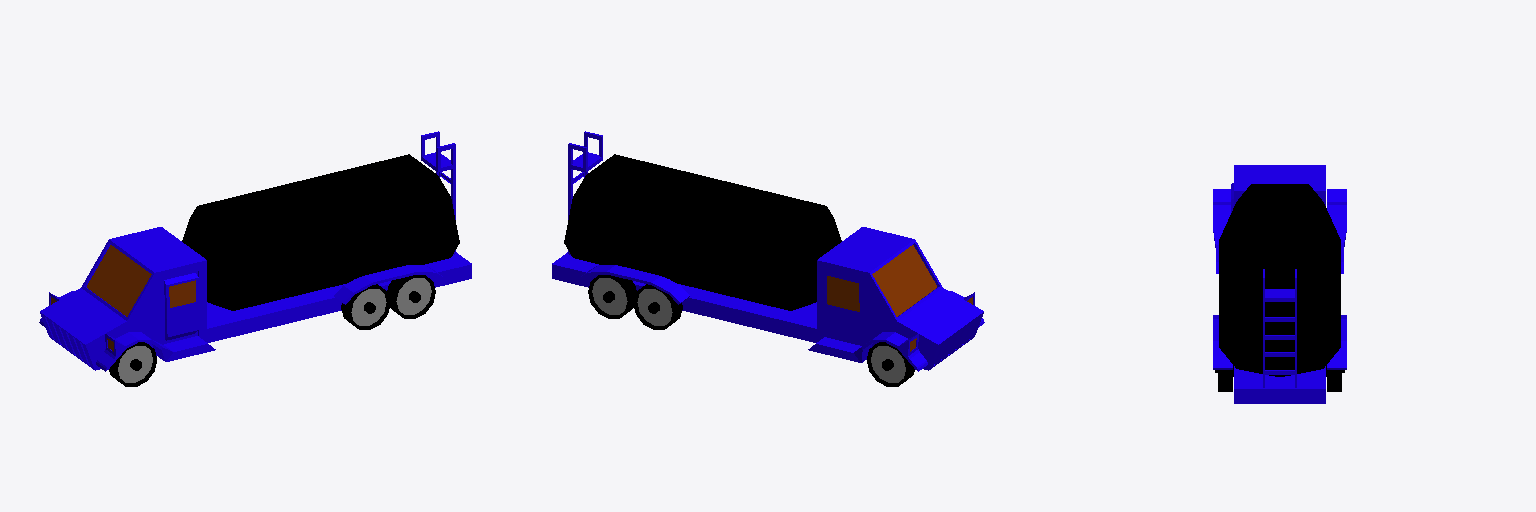
The model's file is oiltank_001.obj.
3 renders of one model, left to right at view 1: azimuth 30°, elevation 25°; view 2: azimuth 150°, elevation 25°; view 3: azimuth 270°, elevation 25°, orthographic.
Visible parts, largest first — view 1: OilTank001, Box001, Cylinder001; view 2: OilTank001, Box001, Cylinder001; view 3: OilTank001, Box001, Cylinder001.
Boxes of the visible parts, box(x1,y1,x2,y2) form: OilTank001: box(182, 154, 459, 310); Box001: box(39, 131, 471, 371); Cylinder001: box(109, 275, 435, 386); OilTank001: box(564, 154, 841, 310); Box001: box(552, 131, 984, 371); Cylinder001: box(588, 275, 914, 386); OilTank001: box(1219, 184, 1340, 376); Box001: box(1213, 165, 1346, 403); Cylinder001: box(1215, 365, 1344, 391).
Bounding box in the file's own units: 146 × 51.67 × 43.53.